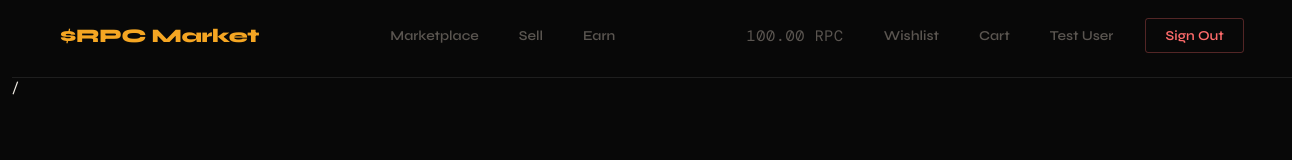
Navbar › navigates to /profile when user name is clicked
The image size is (1292, 160).
// THE FIX: Component now renders "Test User" instead of "Hello, Test User!"
Click the link "Test User" at (1082, 36), box left=1050, top=27, right=1113, bottom=44
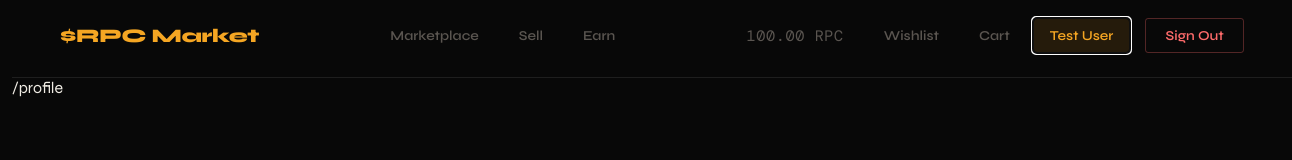
Check: the text with test id "location" reads "/profile", box left=12, top=78, right=63, bottom=97
